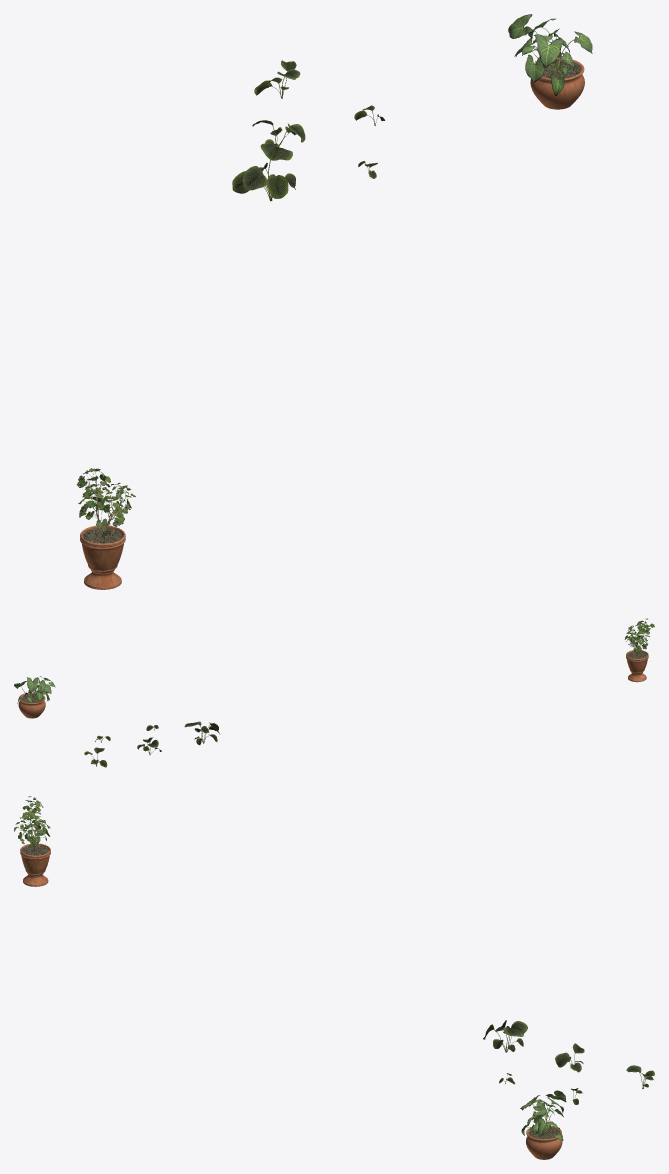
Rendered from room_kitty_props_m.glb.
3 renders of one model, top to bottom at view 1: azimuth 30°, elevation 25°; view 2: azimuth 150°, elevation 25°; view 3: azimuth 270°, elevation 25°, orthographic. The views are drawn at different scales.
Parts seen in each view (by area): view 1: prop_potted_plant_02_1_potted_plant_02_leaves, prop_potted_plant_01_2_potted_plant_01_pot, prop_calathea_orbifolia_01_3_calathea_orbifolia_01_a, prop_potted_plant_01_2_potted_plant_01_leaves, prop_potted_plant_02_1_potted_plant_02_pot; view 2: prop_potted_plant_02_1_potted_plant_02_leaves, prop_potted_plant_01_2_potted_plant_01_leaves, prop_potted_plant_01_2_potted_plant_01_pot, prop_potted_plant_02_1_potted_plant_02_pot, prop_calathea_orbifolia_01_3_calathea_orbifolia_01_a; view 3: prop_potted_plant_02_1_potted_plant_02_leaves, prop_potted_plant_01_2_potted_plant_01_leaves, prop_potted_plant_01_2_potted_plant_01_pot, prop_potted_plant_02_1_potted_plant_02_pot, prop_calathea_orbifolia_01_3_calathea_orbifolia_01_a.
Boxes of the visible parts, x1,y1,x2,y2 form: prop_potted_plant_02_1_potted_plant_02_leaves: [508, 14, 592, 95]; prop_potted_plant_01_2_potted_plant_01_pot: [80, 525, 125, 589]; prop_calathea_orbifolia_01_3_calathea_orbifolia_01_a: [232, 143, 295, 201]; prop_potted_plant_01_2_potted_plant_01_leaves: [76, 468, 135, 536]; prop_potted_plant_02_1_potted_plant_02_pot: [530, 57, 584, 109]; prop_potted_plant_02_1_potted_plant_02_leaves: [14, 676, 55, 703]; prop_potted_plant_01_2_potted_plant_01_leaves: [624, 618, 654, 652]; prop_potted_plant_01_2_potted_plant_01_pot: [626, 650, 648, 682]; prop_potted_plant_02_1_potted_plant_02_pot: [18, 692, 45, 718]; prop_calathea_orbifolia_01_3_calathea_orbifolia_01_a: [184, 721, 220, 745]; prop_potted_plant_02_1_potted_plant_02_leaves: [520, 1090, 566, 1140]; prop_potted_plant_01_2_potted_plant_01_leaves: [14, 796, 50, 847]; prop_potted_plant_01_2_potted_plant_01_pot: [20, 843, 50, 886]; prop_potted_plant_02_1_potted_plant_02_pot: [526, 1125, 562, 1159]; prop_calathea_orbifolia_01_3_calathea_orbifolia_01_a: [483, 1020, 527, 1052].
Size of the model in its own units: 9.45 by 1.22 by 8.69.
Materials: 5 (5 with a texture image).
